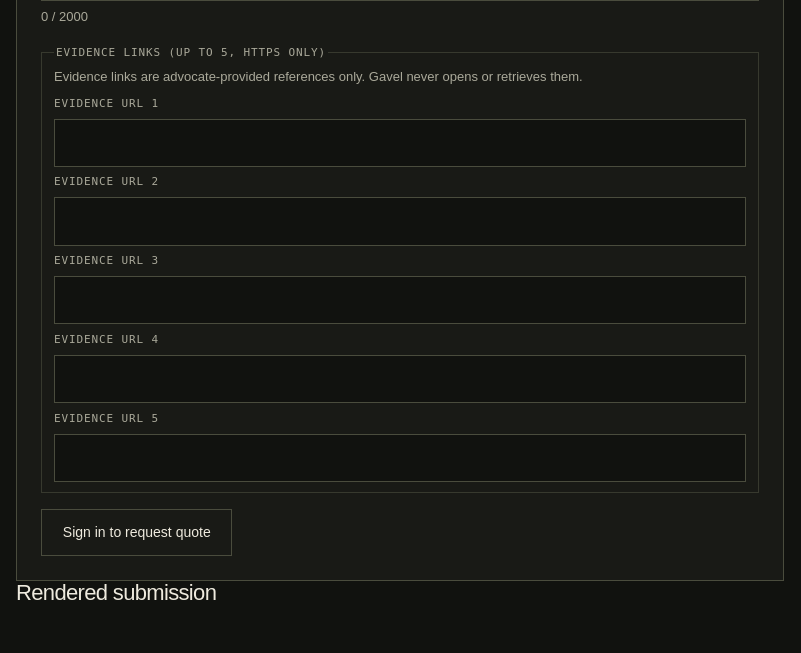
Test: SubmissionComposer advocate session › reports a rejected signature and stays connected-but-unauthenticated
(page scrolled)
Step 1. Click the button "Sign in to request quote" → coordinates (137, 532), box [41,509,232,556]
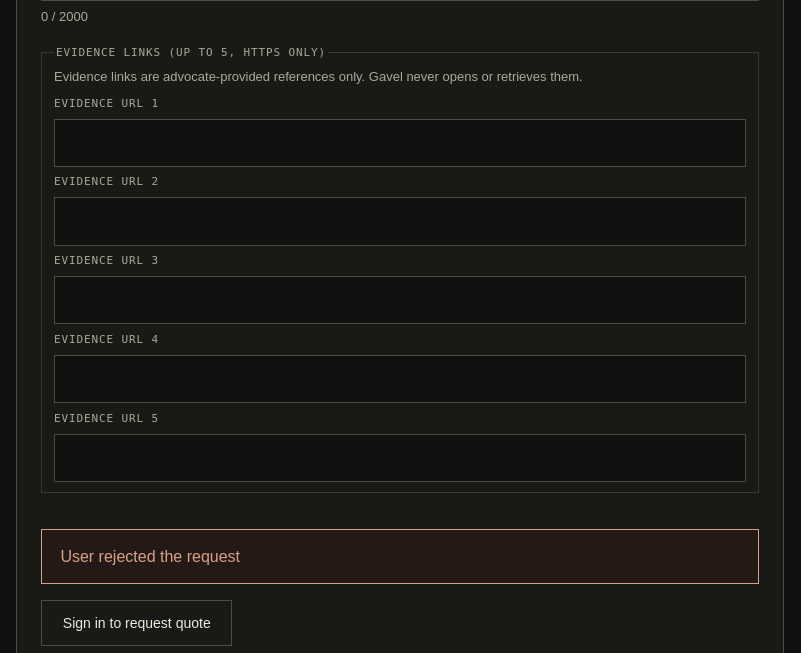
Check: the button "Sign in to request quote" is shown, box [41,600,232,646]
Check: the message shows "rejected", box [60,548,240,564]
